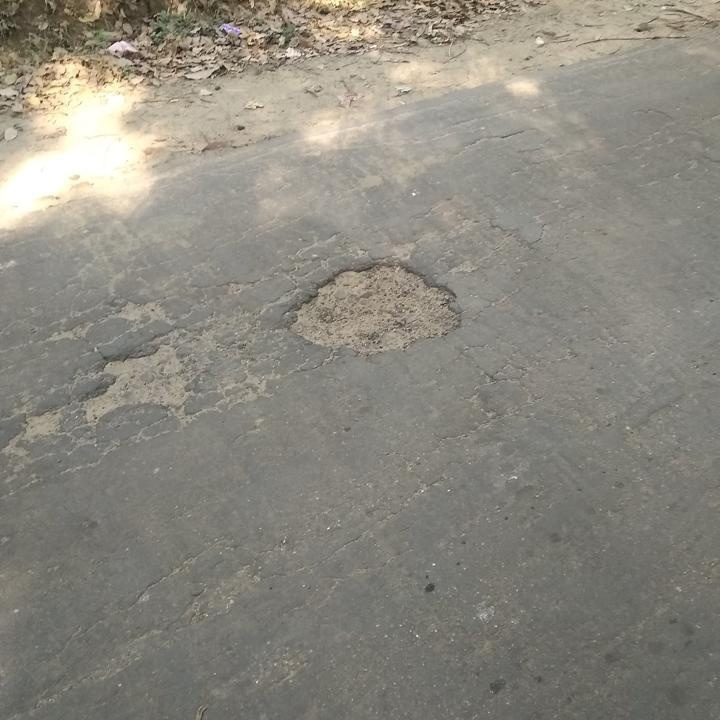pothole: (286, 256, 465, 357), (81, 337, 196, 428)
